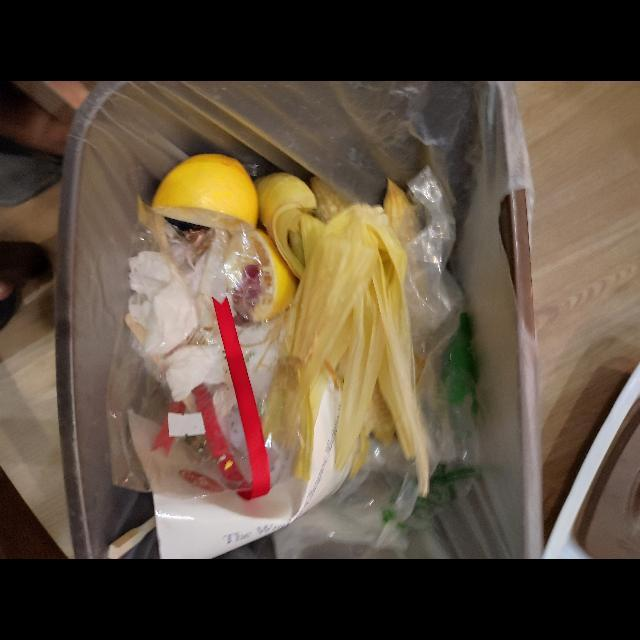biowaste: (252, 173, 430, 500), (149, 155, 259, 233), (224, 228, 297, 321)
paper: (128, 223, 232, 402)
plastic: (275, 165, 488, 558)
